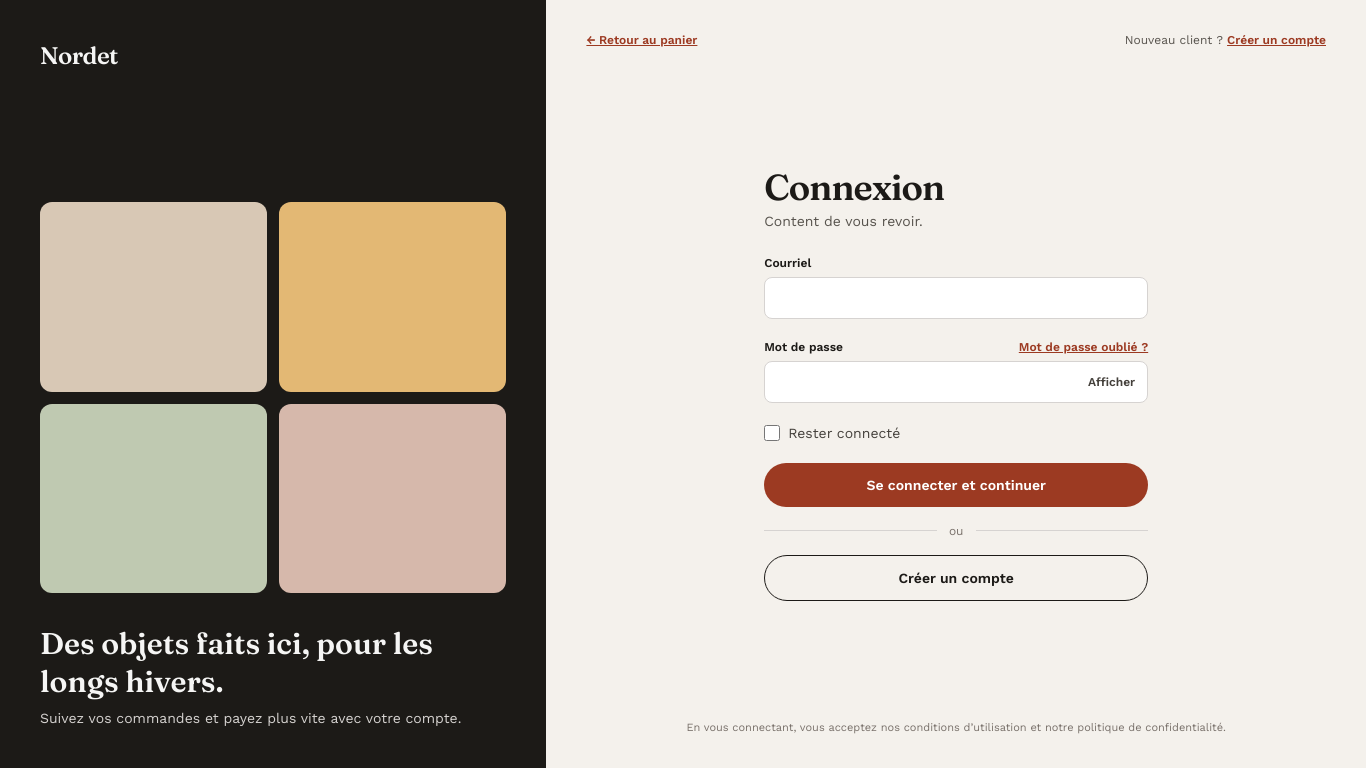
ConnexionPage › clears the error as soon as the user edits a field
Type "julie@test.com" into the field labelled "Courriel".
click(956, 298); type("julie@test.com")  # box [764,277,1148,319]
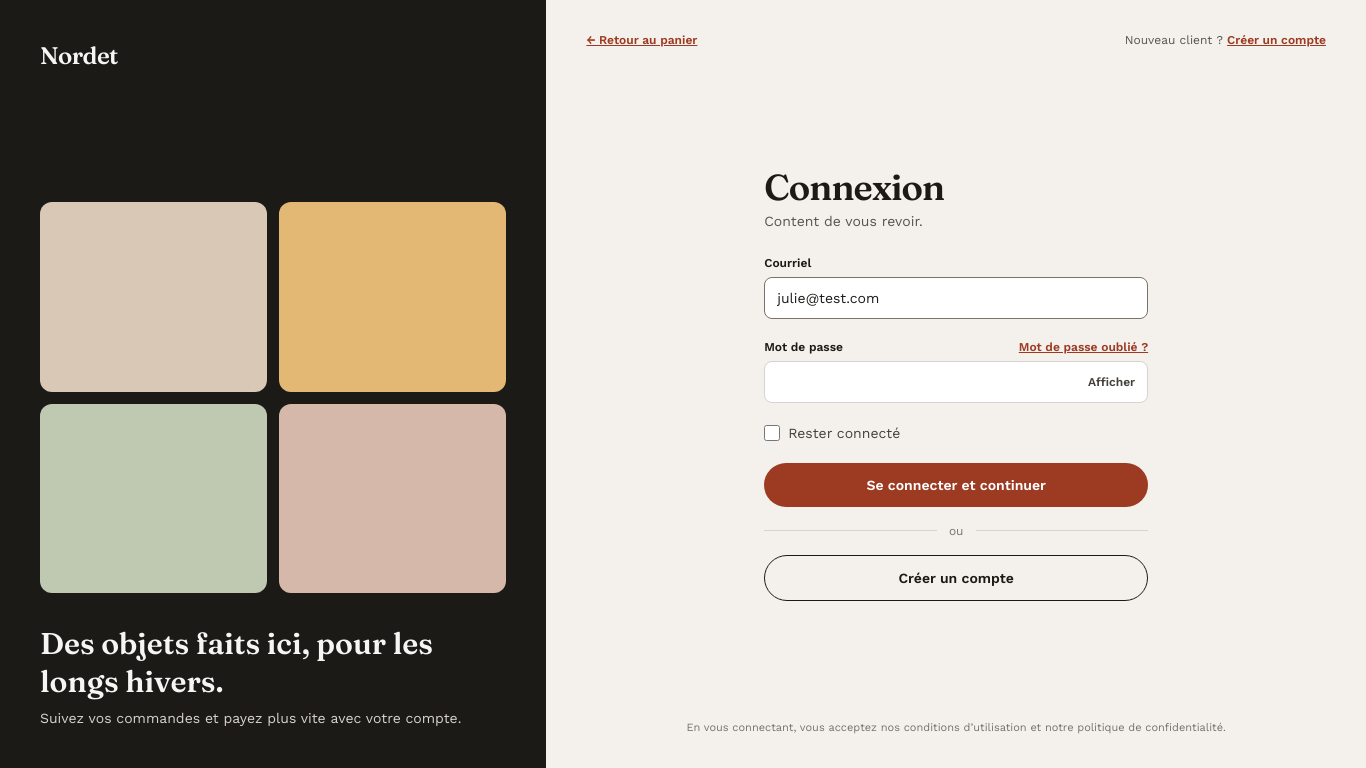
Type "MauvaisMotDePasse1!" into the password field labelled "Mot de passe".
click(921, 382); type("MauvaisMotDePasse1!")  # box [765,362,1076,402]
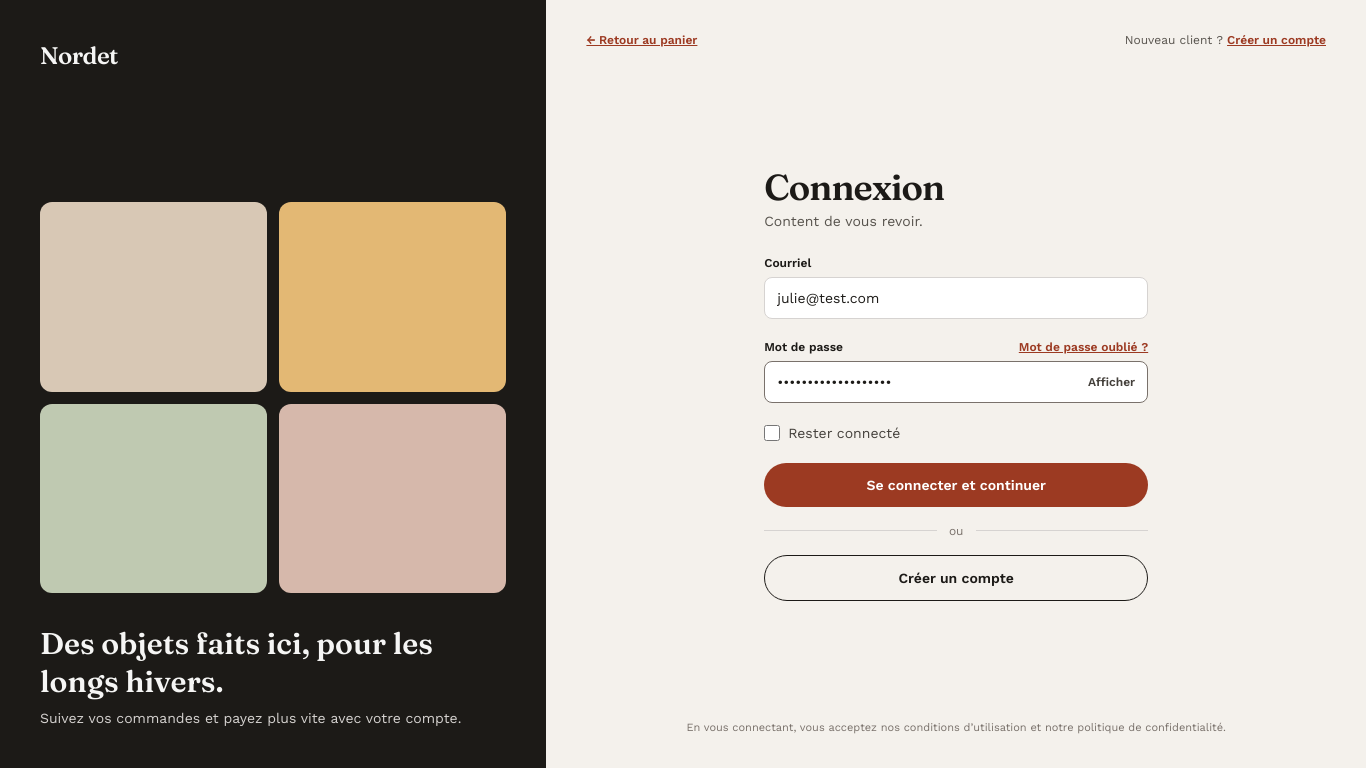
Click the button "Se connecter et continuer".
click(956, 485)  # box [764,463,1148,507]
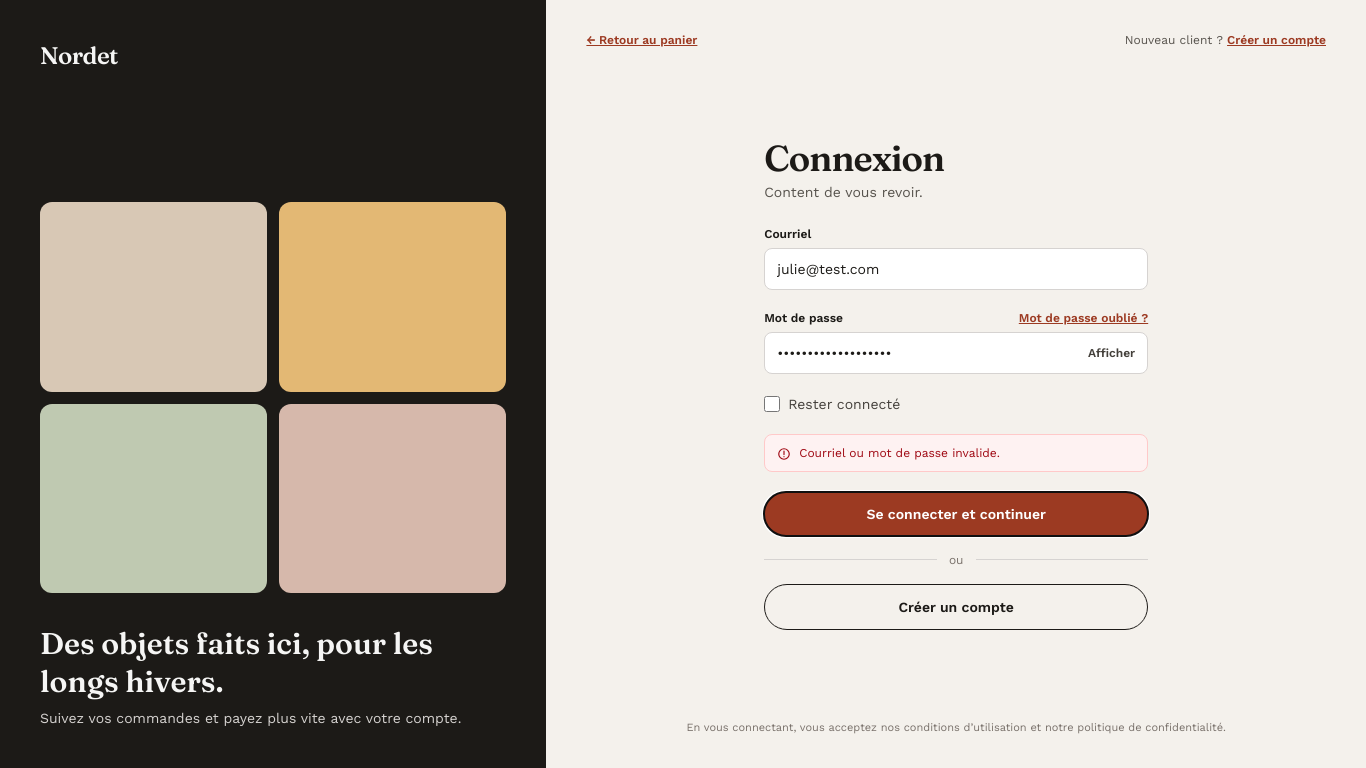
Now the message "Courriel ou mot de passe invalide." is shown, box [764,434,1148,472]
Type "x" into the password field labelled "Mot de passe".
click(921, 353); type("x")  # box [765,333,1076,373]
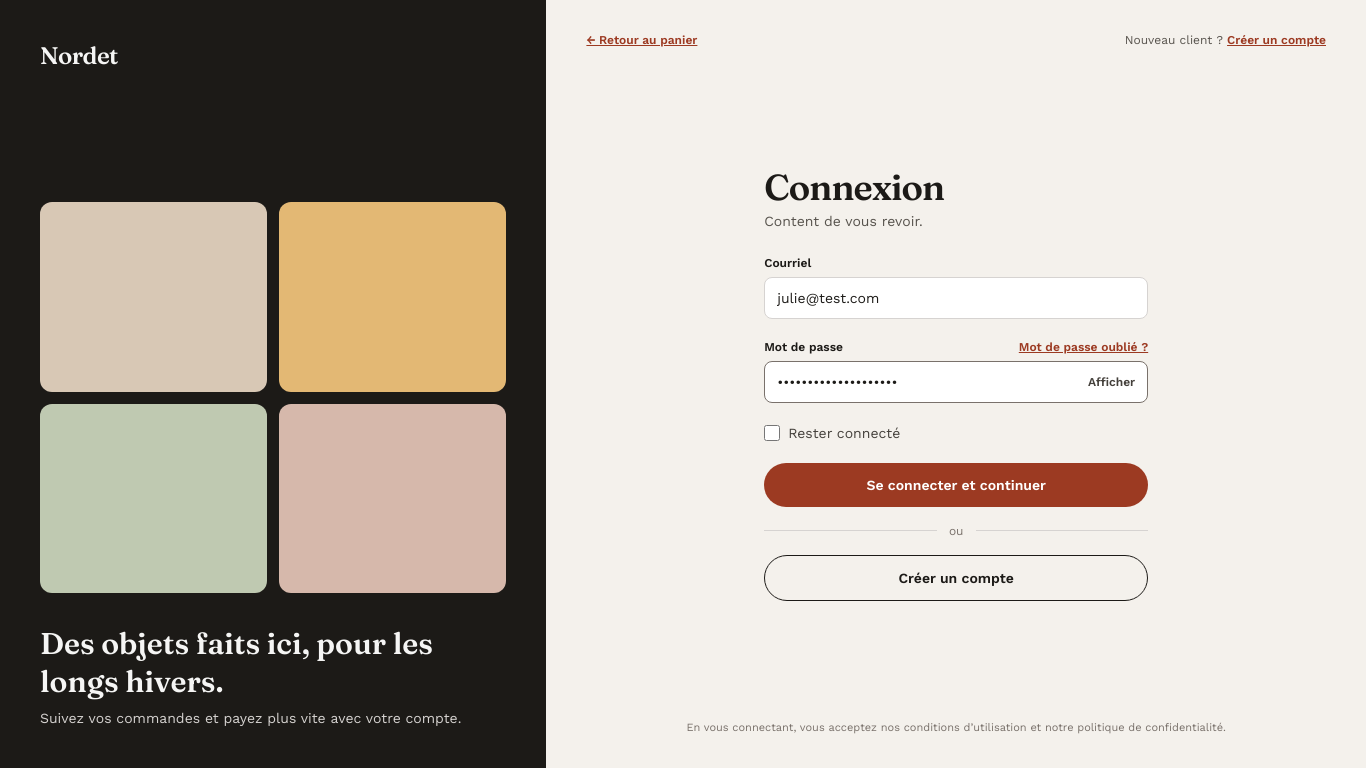
Now the message "Courriel ou mot de passe invalide." is gone
